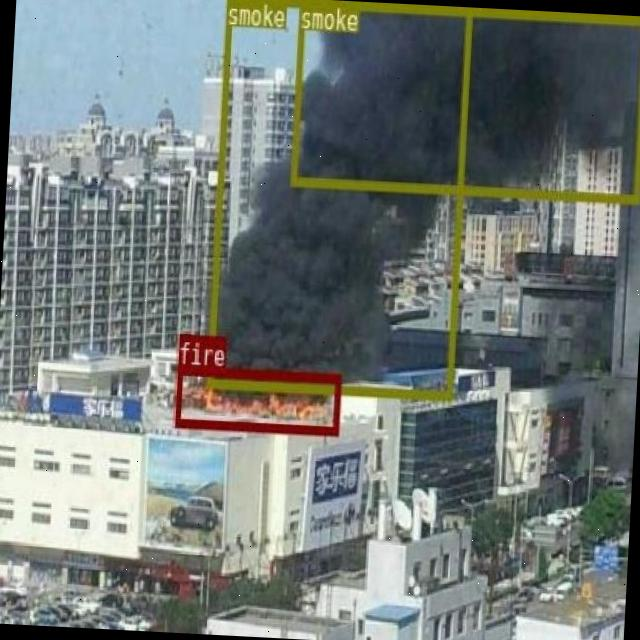fire: (173, 364, 341, 436)
smoke: (207, 0, 472, 398), (290, 0, 640, 201)
